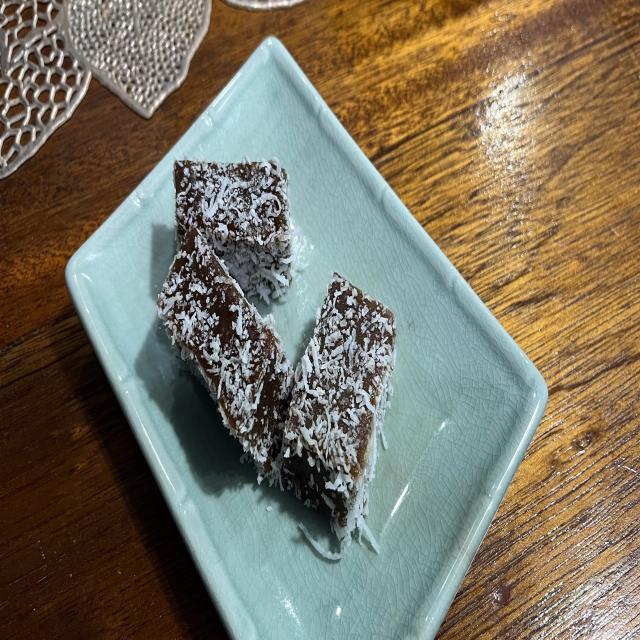kaswi: (158, 227, 294, 484), (282, 273, 396, 553), (174, 158, 295, 302)
